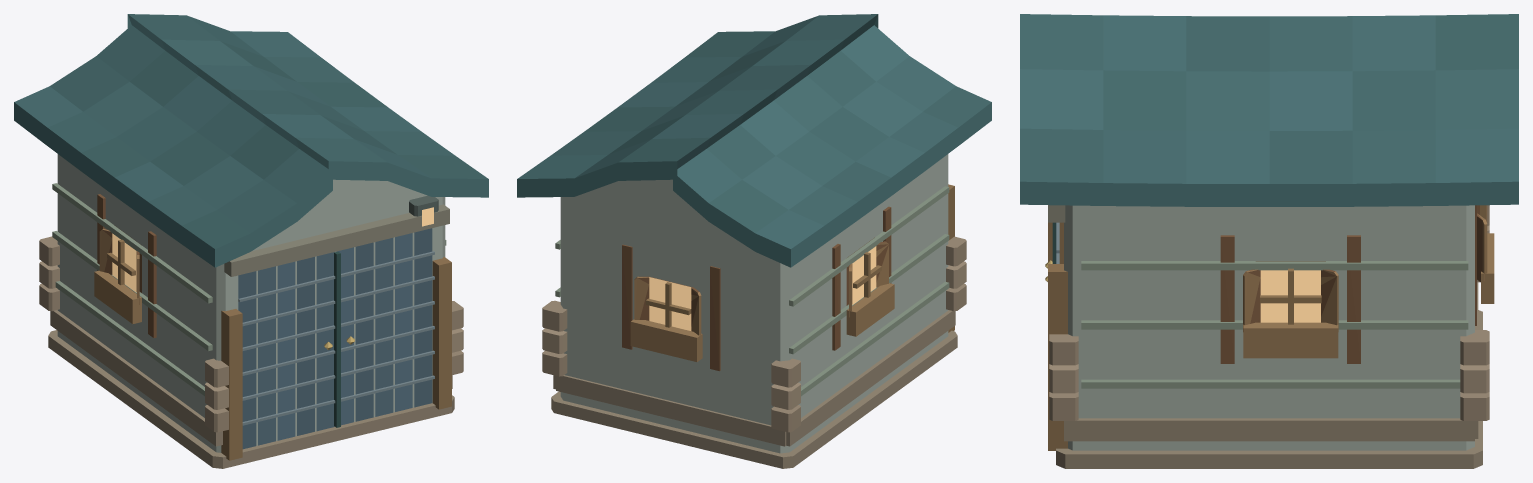
Rendered from moss-workshop.glb.
The picture shows the model from 3 angles, left to right: view 1: azimuth 30°, elevation 25°; view 2: azimuth 150°, elevation 25°; view 3: azimuth 270°, elevation 25°; orthographic projection. The views are drawn at different scales.
Parts seen in each view (by area): view 1: mooswerkstatt; view 2: mooswerkstatt; view 3: mooswerkstatt.
Part boxes in pixels (x1=…): mooswerkstatt: x1=14, y1=14, x2=488, y2=468; mooswerkstatt: x1=517, y1=14, x2=991, y2=468; mooswerkstatt: x1=1020, y1=14, x2=1518, y2=468.
Bounding box in the file's own units: 2.94 × 3.04 × 3.74.
